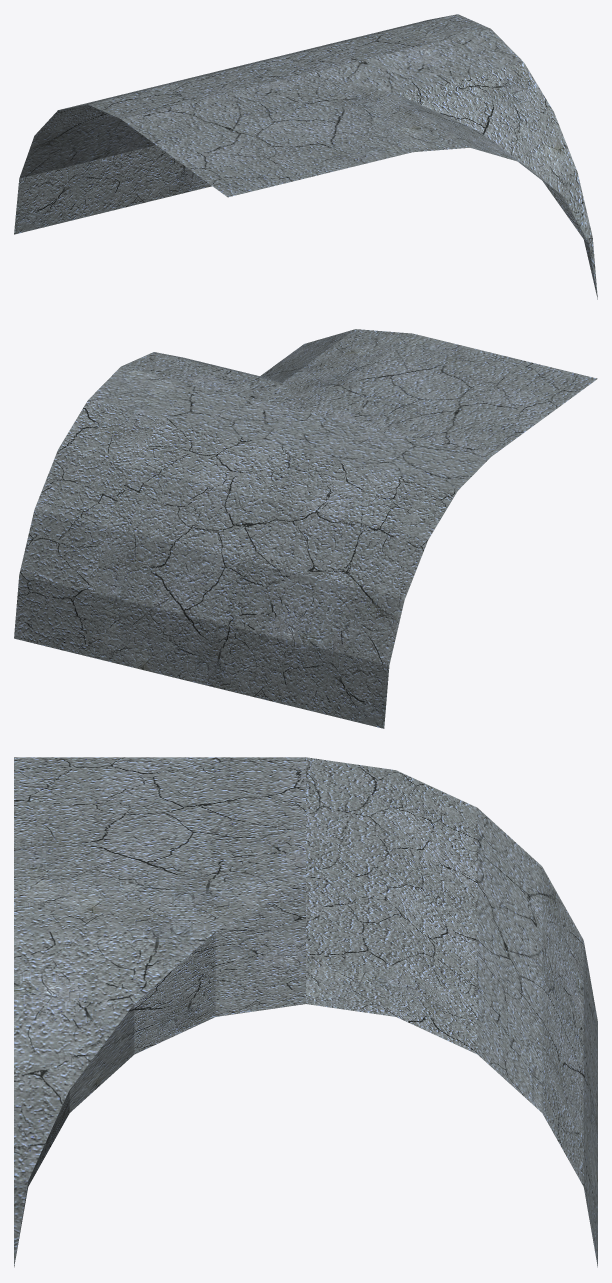
The model's file is ceiling_12.fbx.
The picture shows the model from 3 angles, top to bottom: view 1: azimuth 30°, elevation 25°; view 2: azimuth 150°, elevation 25°; view 3: azimuth 270°, elevation 25°; orthographic projection. The views are drawn at different scales.
Visible parts, largest first — view 1: ceiling_12; view 2: ceiling_12; view 3: ceiling_12.
Part boxes in pixels (x1,y1,x2,y2): ceiling_12: [14, 14, 597, 299]; ceiling_12: [14, 329, 597, 728]; ceiling_12: [14, 757, 597, 1267].
Bounding box in the file's own units: 100 × 50 × 100.
